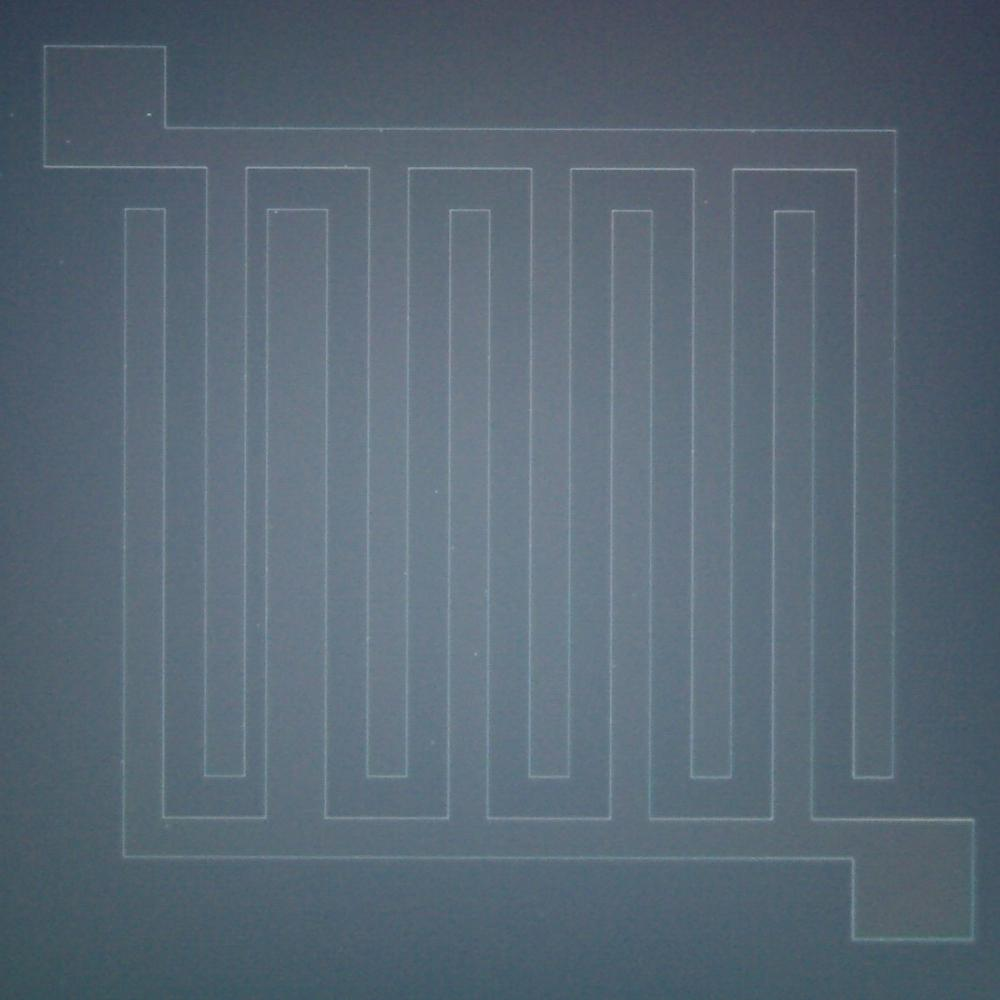dot: (9, 112, 14, 118), (66, 139, 71, 144), (378, 129, 384, 133), (704, 199, 708, 204), (148, 112, 152, 116), (344, 164, 348, 168), (274, 210, 278, 214), (434, 489, 438, 493), (402, 572, 406, 576), (474, 652, 478, 656)
